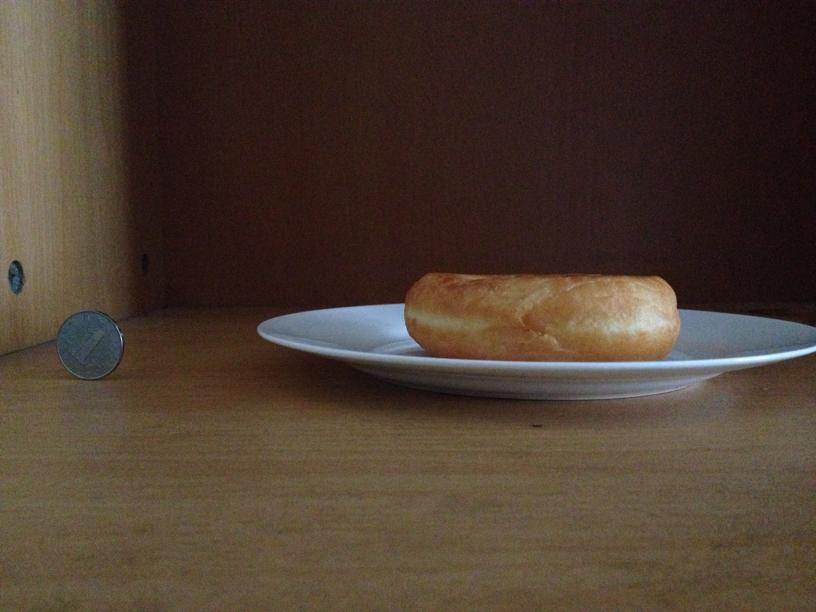coin: (56, 311, 125, 380)
doughnut: (404, 269, 681, 360)
